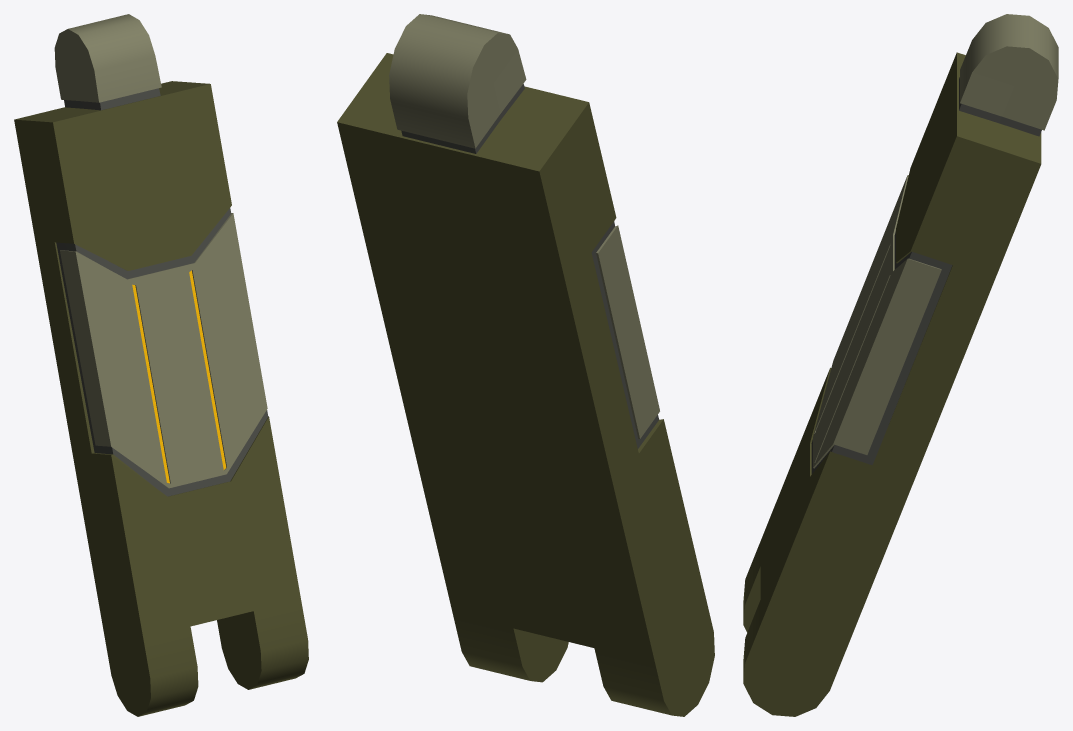
Rendered from Bot_R_LegBottom.fbx.
3 renders of one model, left to right at view 1: azimuth 30°, elevation 25°; view 2: azimuth 150°, elevation 25°; view 3: azimuth 270°, elevation 25°, orthographic. The views are drawn at different scales.
Visible parts, largest first — view 1: R_LegBottom; view 2: R_LegBottom; view 3: R_LegBottom.
Part boxes in pixels (x1,y1,x2,y2): R_LegBottom: (14, 14, 308, 716); R_LegBottom: (337, 14, 714, 716); R_LegBottom: (743, 14, 1058, 716).
Size of the model in its own units: 1140 by 4092 by 1811.
